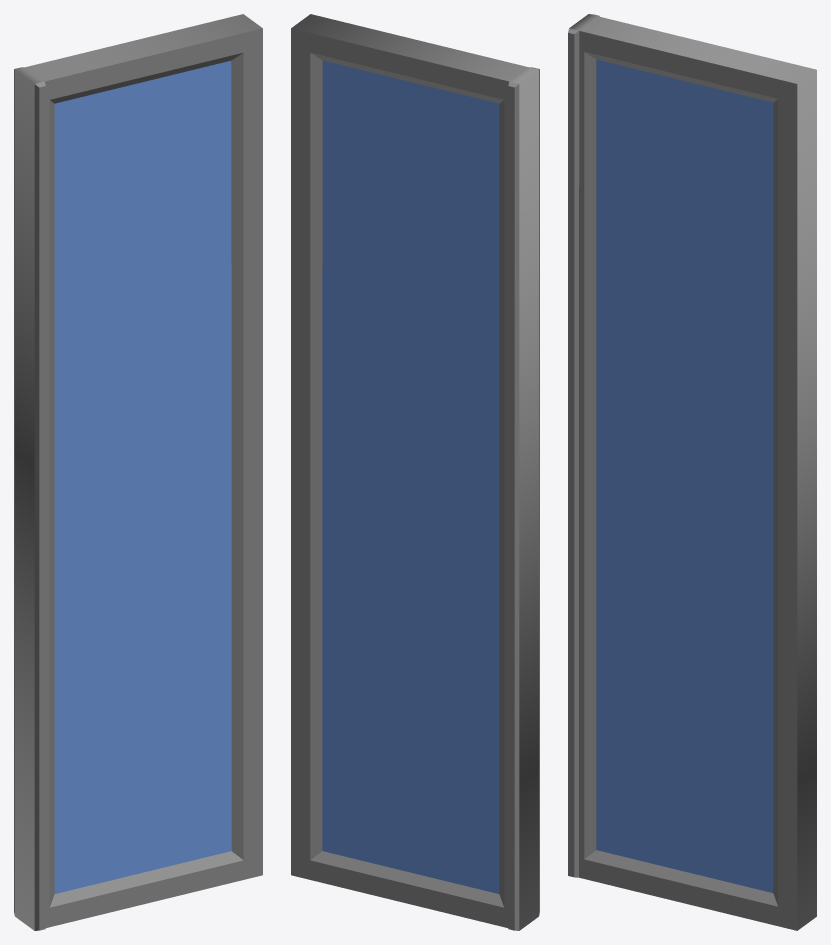
File: ENV_Windows_Left.fbx
3 views of the same model, side by side, from view 1: azimuth 30°, elevation 25°; view 2: azimuth 150°, elevation 25°; view 3: azimuth 330°, elevation 25° (orthographic).
Parts seen in each view (by area): view 1: ENV_Windows_Left; view 2: ENV_Windows_Left; view 3: ENV_Windows_Left.
Boxes of the visible parts, x1,y1,x2,y2 form: ENV_Windows_Left: (14,14,262,930); ENV_Windows_Left: (291,14,539,930); ENV_Windows_Left: (568,14,816,930).
Size of the model in its own units: 55.27 by 196 by 10.61.
